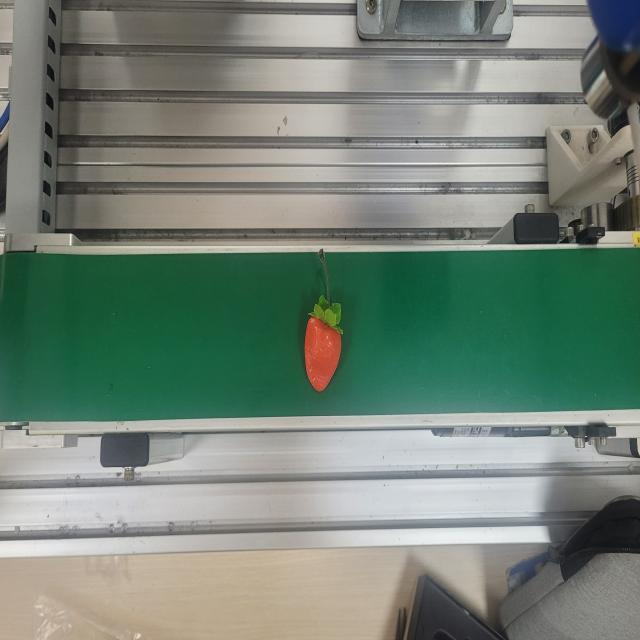Small Ripe Strawberry: (302, 246, 344, 394)
conveyor: (0, 237, 640, 428)
